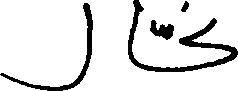X: (0, 0, 91, 90), (180, 0, 237, 76), (129, 0, 140, 72)
